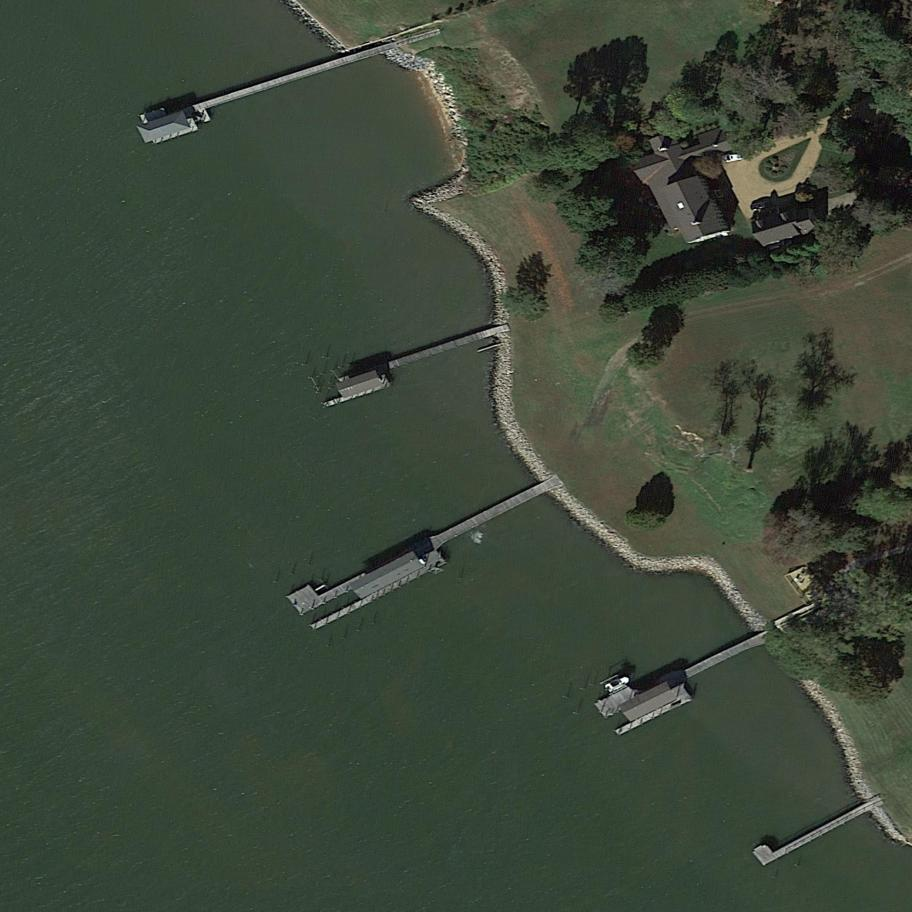ship: (602, 672, 633, 695)
small-vehicle: (720, 151, 746, 164), (750, 200, 774, 212)
